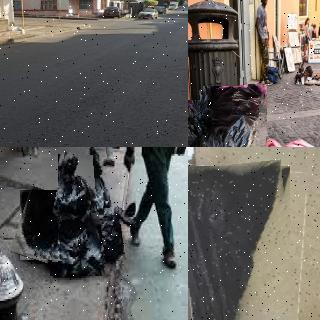Garbage: (188, 162, 294, 320), (201, 84, 269, 147), (15, 189, 65, 263), (48, 211, 104, 277), (55, 153, 97, 220), (90, 208, 127, 264), (86, 147, 114, 213), (188, 96, 210, 147), (12, 27, 22, 31), (20, 29, 26, 35), (69, 14, 73, 18), (65, 14, 69, 17)
